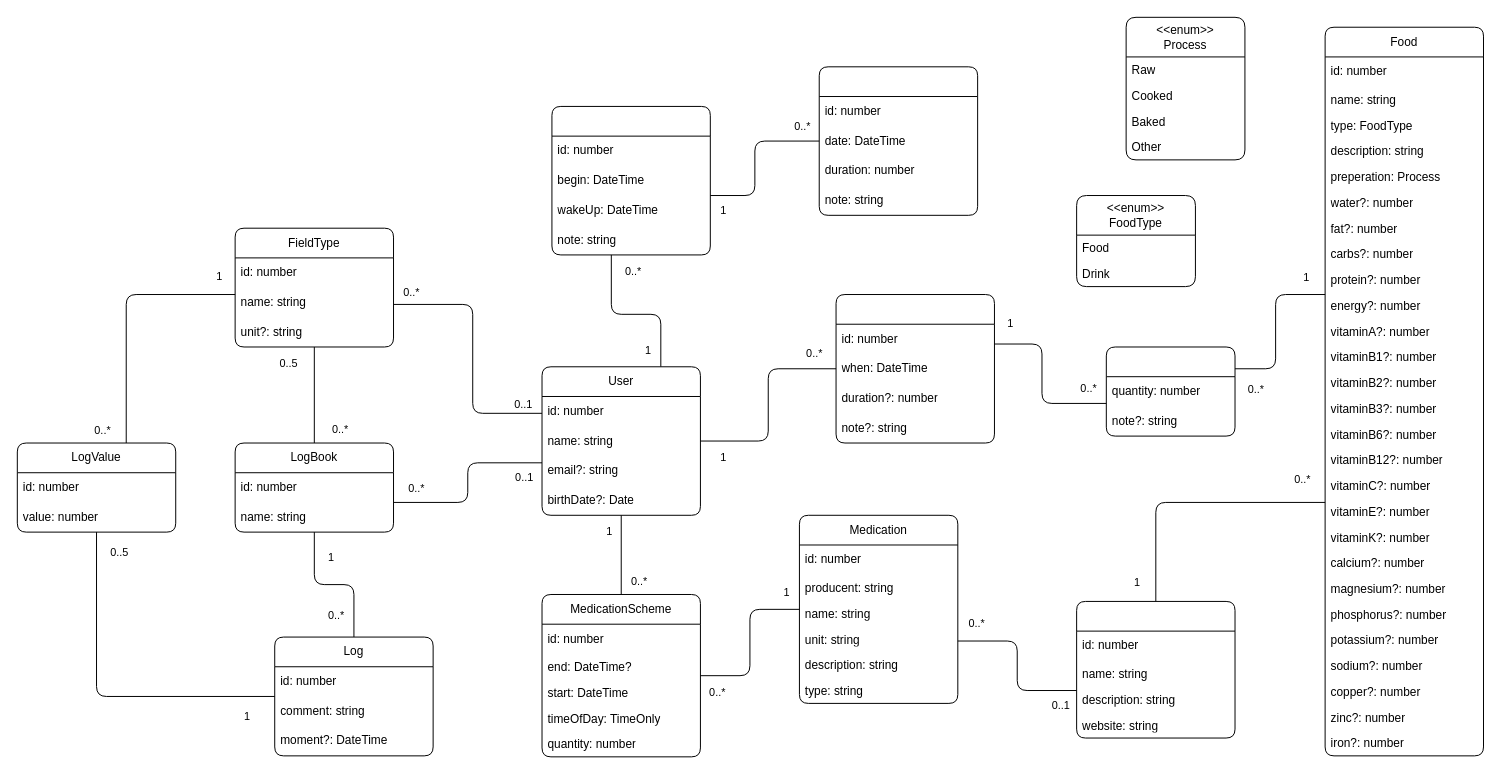
Image size: 1501x777. Some labels were removed from this diagram. Each missing label, with the box of its shape:
Brand: (1076, 600, 1235, 738)
Interruption: (818, 66, 978, 215)
Meal: (835, 294, 994, 443)
MealItem: (1105, 346, 1235, 436)
Sleep: (551, 105, 710, 255)
